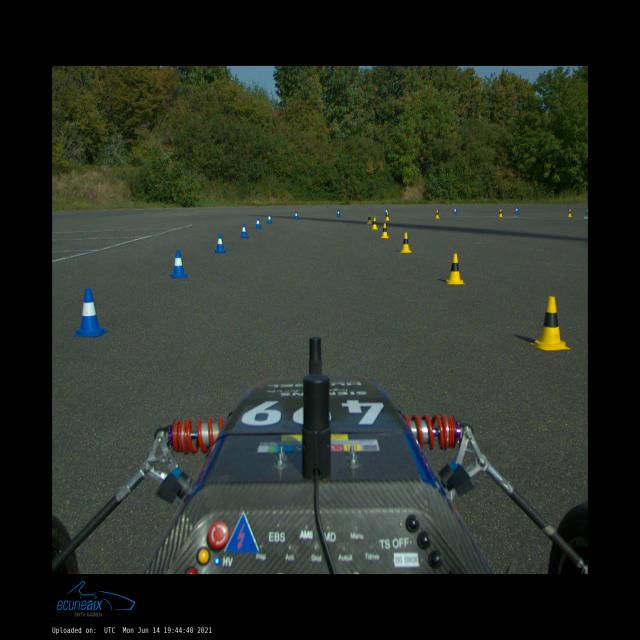blue_cone: (72, 288, 108, 337), (171, 250, 187, 278), (214, 233, 226, 253), (240, 223, 249, 238), (254, 217, 262, 229), (267, 214, 272, 224), (294, 211, 299, 220), (336, 209, 341, 217), (515, 207, 519, 214), (453, 208, 457, 214), (385, 208, 387, 215)
yellow_cone: (530, 297, 570, 351), (445, 254, 465, 284), (400, 232, 412, 254), (380, 224, 389, 238), (372, 218, 378, 230), (367, 213, 372, 224), (434, 210, 440, 219), (385, 212, 390, 221), (567, 209, 572, 217), (499, 209, 503, 217)
